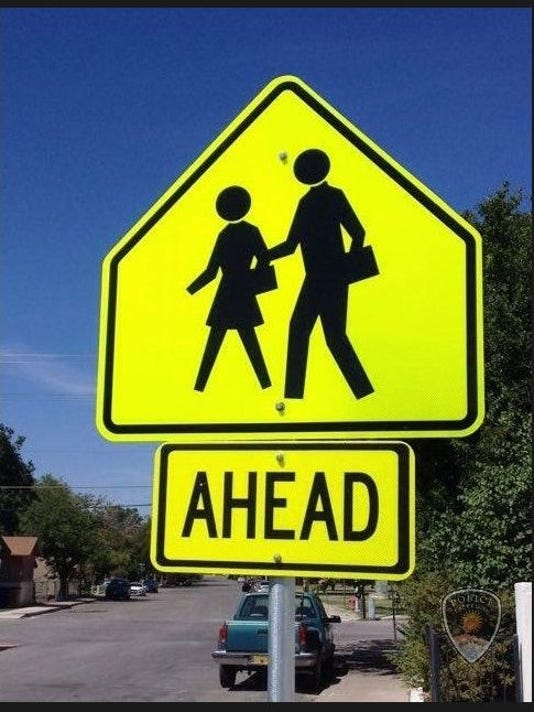slow: (86, 71, 495, 443)
